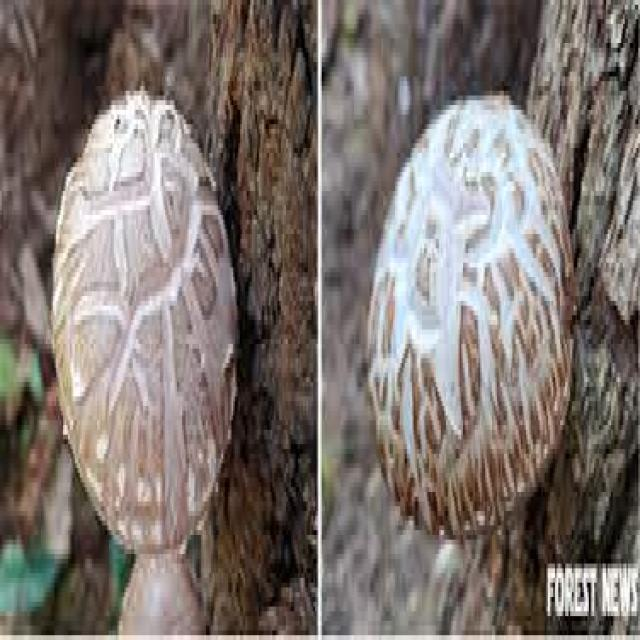Mushroom: (369, 96, 574, 537), (53, 91, 237, 559)
